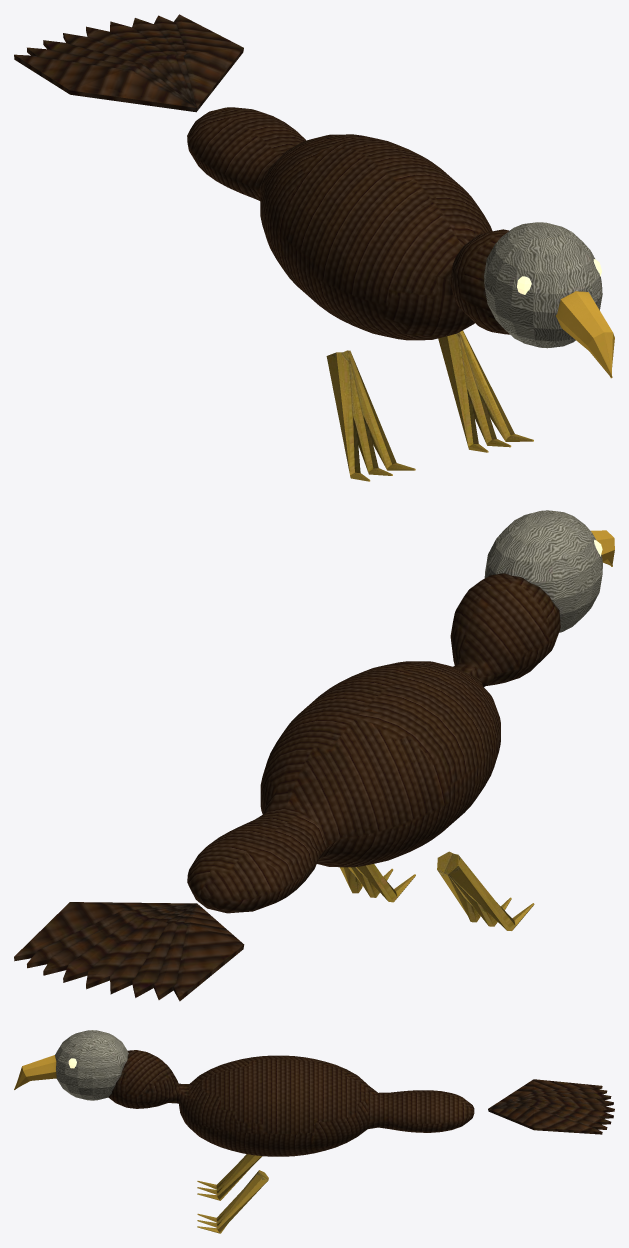
File: eagle_body.glb
3 renders of one model, top to bottom at view 1: azimuth 30°, elevation 25°; view 2: azimuth 150°, elevation 25°; view 3: azimuth 270°, elevation 25°, orthographic. The views are drawn at different scales.
Parts seen in each view (by area): view 1: eagle_body, tail, head, talons, beak; view 2: eagle_body, tail, head, talons; view 3: eagle_body, tail, head, talons, beak.
Boxes of the visible parts, left/top/right/bottom form: eagle_body: left=187, top=107, right=509, bottom=340; tail: left=14, top=14, right=243, bottom=112; head: left=484, top=222, right=602, bottom=348; talons: left=326, top=330, right=533, bottom=481; beak: left=555, top=291, right=614, bottom=378; eagle_body: left=187, top=573, right=560, bottom=913; tail: left=14, top=902, right=244, bottom=1001; head: left=484, top=510, right=602, bottom=632; talons: left=340, top=851, right=534, bottom=930; eagle_body: left=108, top=1050, right=474, bottom=1156; tail: left=488, top=1079, right=614, bottom=1134; head: left=55, top=1030, right=128, bottom=1100; talons: left=197, top=1154, right=268, bottom=1233; beak: left=14, top=1055, right=56, bottom=1089.
Bounding box in the file's own units: 0.383 × 0.6595 × 2.
7 materials, 7 textured.
